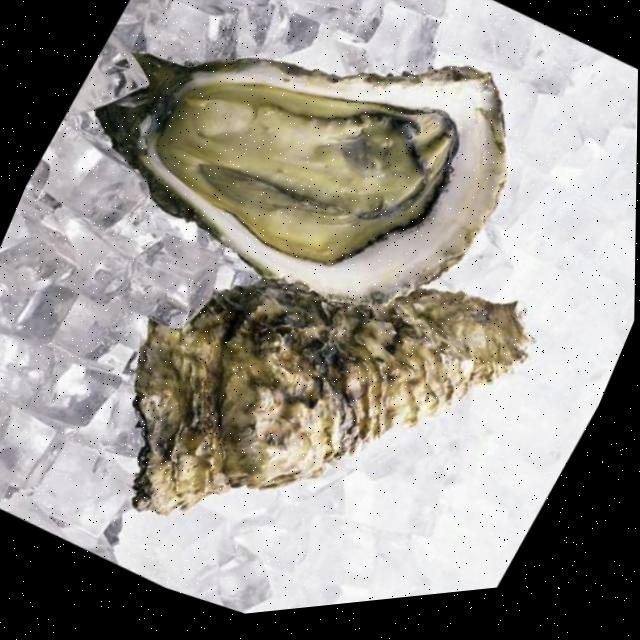Oyster-Indeterminate: (132, 278, 530, 515)
Oyster-Open: (96, 53, 506, 300)
